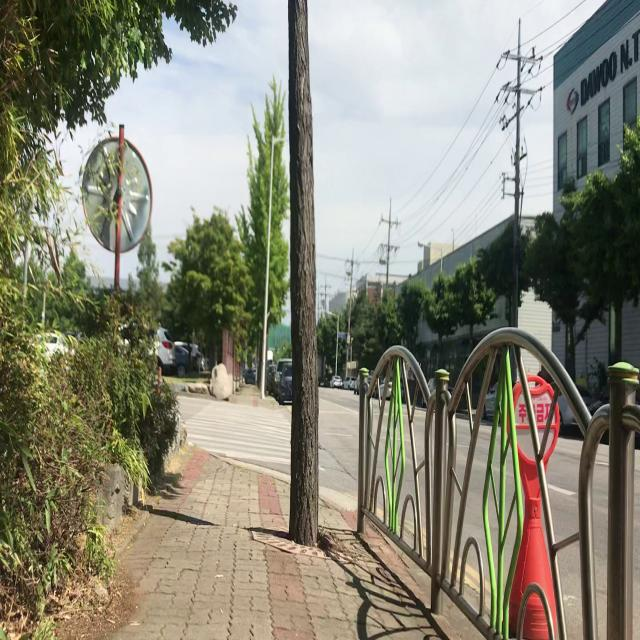횡단보도: (180, 398, 328, 474)
